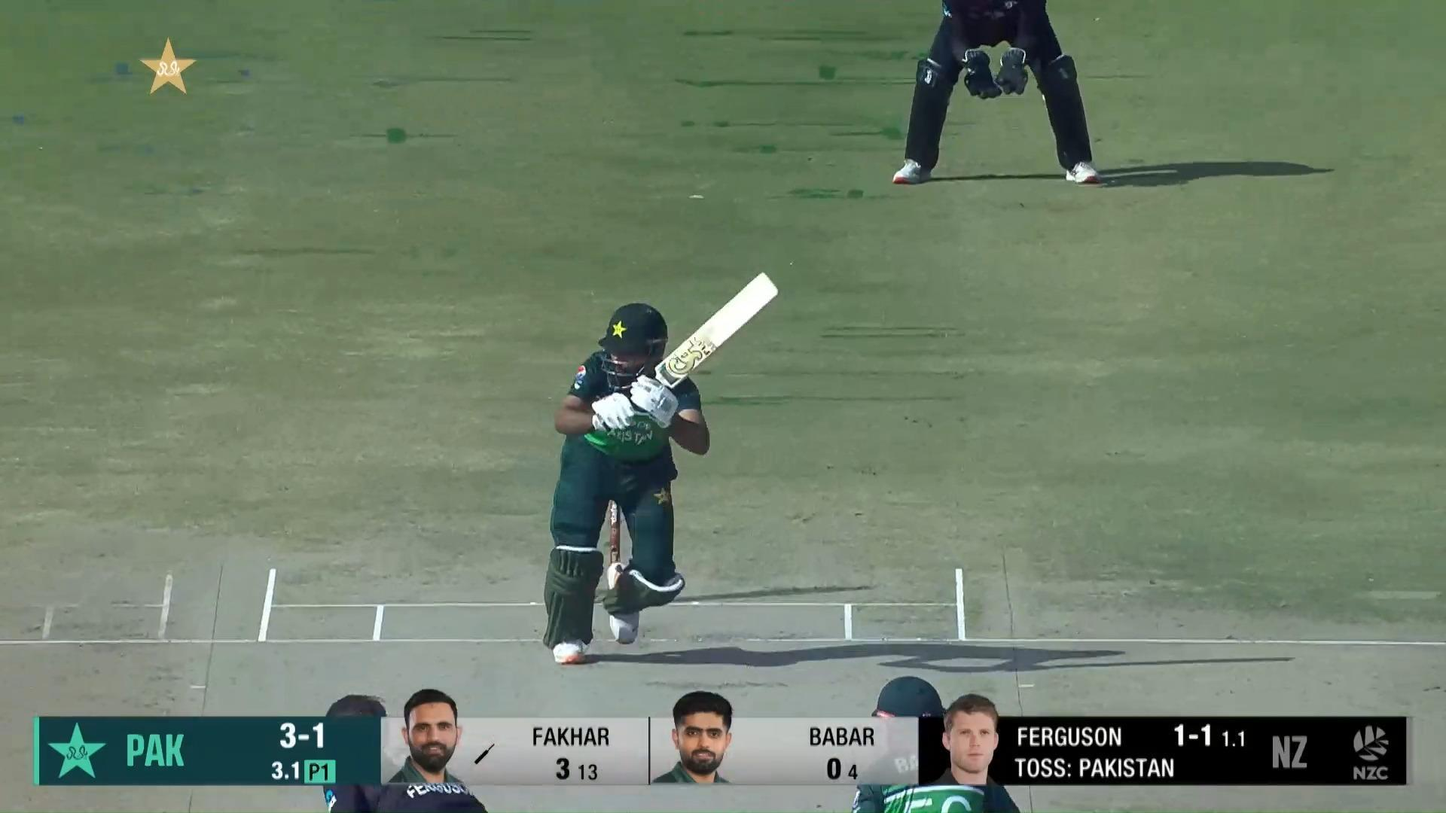BM 1: (542, 270, 782, 664)
BO: (314, 693, 490, 813)
